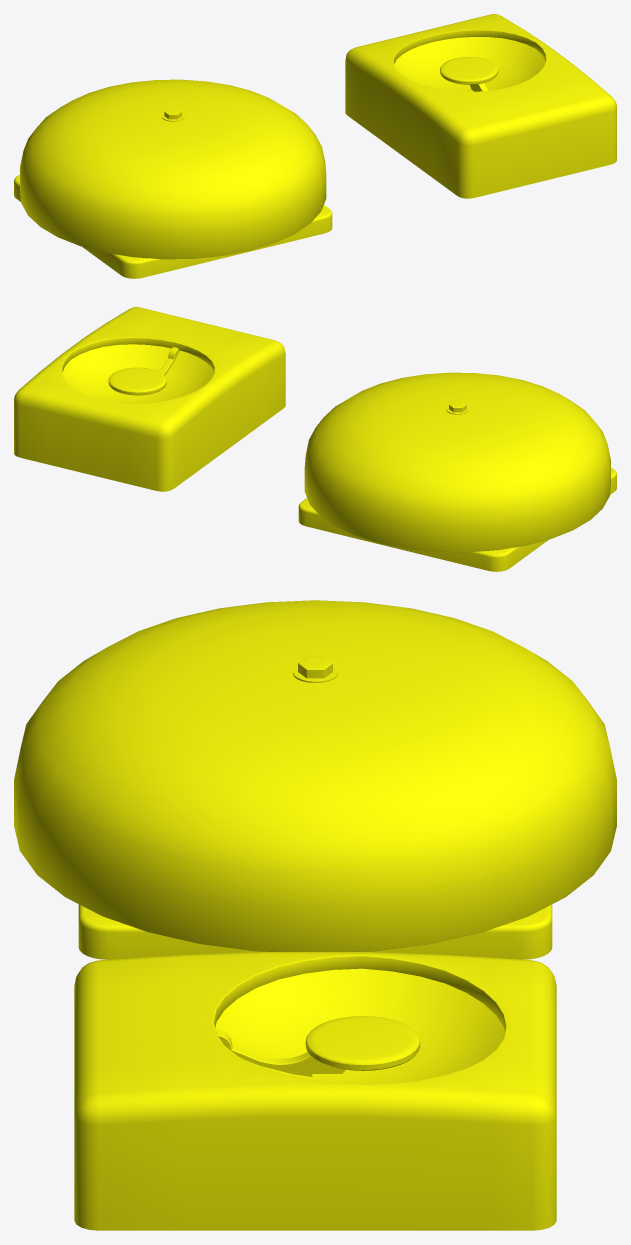
3 views of the same model, one above another, from view 1: azimuth 30°, elevation 25°; view 2: azimuth 150°, elevation 25°; view 3: azimuth 270°, elevation 25° (orthographic). The views are drawn at different scales.
Visible parts, largest first — view 1: bell, lever; view 2: bell, lever; view 3: bell, lever.
Part boxes in pixels (left/top/right/bottom): bell: left=14, top=79, right=332, bottom=278; lever: left=345, top=14, right=616, bottom=198; bell: left=298, top=372, right=616, bottom=571; lever: left=14, top=307, right=285, bottom=491; bell: left=14, top=600, right=616, bottom=959; lever: left=74, top=952, right=556, bottom=1230.
Bounding box in the file's own units: 0.3423 × 0.0638 × 0.175.
1 material, 1 textured.
